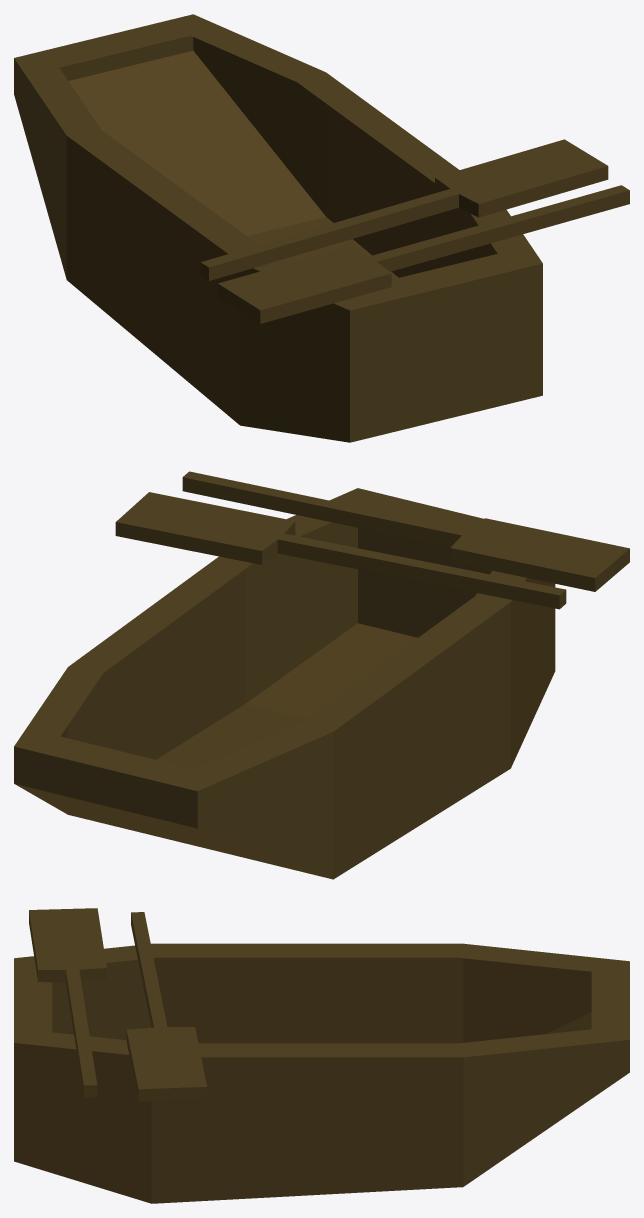
The model's file is boat.glb.
The picture shows the model from 3 angles, top to bottom: view 1: azimuth 30°, elevation 25°; view 2: azimuth 150°, elevation 25°; view 3: azimuth 270°, elevation 25°; orthographic projection. The views are drawn at different scales.
Parts seen in each view (by area): view 1: boat, Cube.001, Cube; view 2: boat, Cube, Cube.001; view 3: boat, Cube, Cube.001.
Boxes of the visible parts, x1,y1,x2,y2 form: boat: (14,14,542,442); Cube.001: (218,185,629,323); Cube: (200,139,608,280); boat: (14,488,555,879); Cube: (115,492,566,609); Cube.001: (182,471,629,591); boat: (14,943,629,1203); Cube: (126,912,207,1101); Cube.001: (29,908,106,1097).
Bounding box in the file's own units: 5.31 × 2.17 × 7.63.
